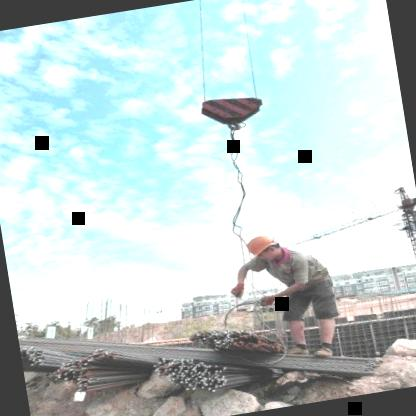helmet: (242, 227, 290, 271)
